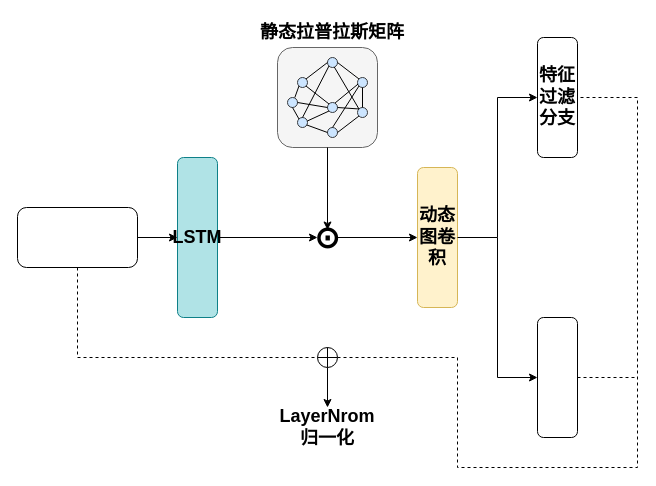
The diagram is 656 pixels wide and 486 high, and some of its shapes have lost their labels. Here are the shapes that lost their labels. From the top down, the centre of each, then its label:
the point at 77,237: 空间注意力 权重输入
the point at 557,377: 门控分支
